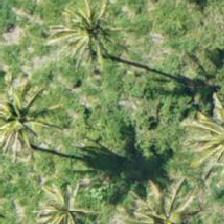coconut_tree: (51, 0, 141, 70), (13, 161, 103, 223), (0, 69, 60, 159)
